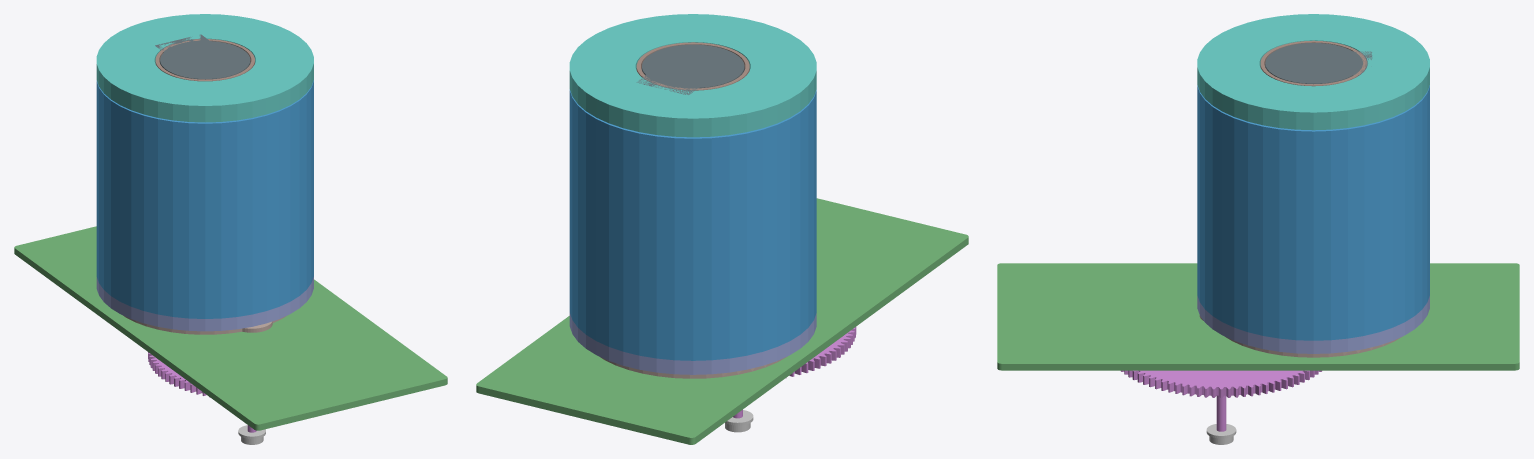
The model's file is knob-stack-v0.10.glb.
3 views of the same model, side by side, from view 1: azimuth 30°, elevation 25°; view 2: azimuth 150°, elevation 25°; view 3: azimuth 270°, elevation 25° (orthographic). The views are drawn at different scales.
Parts seen in each view (by area): view 1: knob_body__cap_skirt_hub, PCB, control_dial, TFT_glass, bottom_internal_ring, encoder_big_gear, screen_holder, base_cradle; view 2: knob_body__cap_skirt_hub, PCB, control_dial, TFT_glass, bottom_internal_ring, encoder_big_gear, screen_holder, base_cradle; view 3: knob_body__cap_skirt_hub, PCB, control_dial, encoder_big_gear, TFT_glass, bottom_internal_ring, screen_holder, base_cradle.
Boxes of the visible parts, x1,y1,x2,y2 form: knob_body__cap_skirt_hub: (96,80,313,318); PCB: (14,226,447,430); control_dial: (96,14,313,122); TFT_glass: (155,34,250,79); bottom_internal_ring: (96,277,313,331); encoder_big_gear: (148,352,209,397); screen_holder: (155,39,254,81); base_cradle: (123,315,286,334); knob_body__cap_skirt_hub: (569,89,816,360); PCB: (476,198,968,444); control_dial: (569,14,816,137); TFT_glass: (636,44,744,94); bottom_internal_ring: (569,313,816,374); encoder_big_gear: (786,327,856,378); screen_holder: (636,42,749,90); base_cradle: (599,356,787,378); knob_body__cap_skirt_hub: (1197,85,1429,340); PCB: (997,263,1519,370); control_dial: (1197,14,1429,130); encoder_big_gear: (1121,370,1321,397); TFT_glass: (1265,43,1372,84); bottom_internal_ring: (1197,296,1429,353); screen_holder: (1260,40,1366,86); base_cradle: (1199,315,1402,357).
Bounding box in the file's own units: 0.049 × 0.085 × 0.1075.
